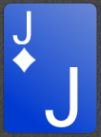Diamond: (12, 48, 36, 72)
